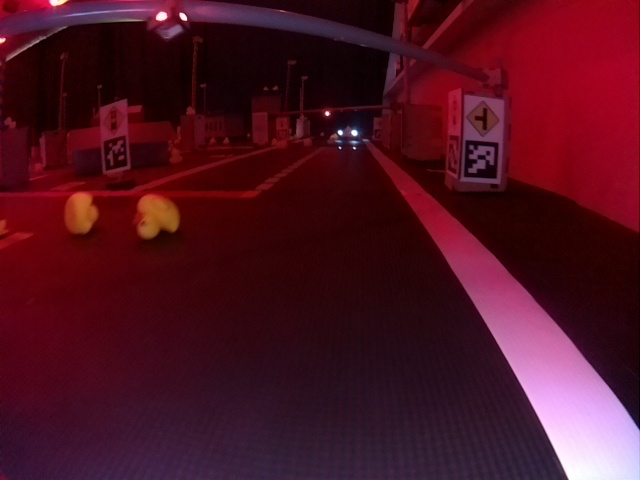Duckie: (133, 195, 180, 239), (64, 194, 95, 231)
Duckiebot: (335, 127, 362, 141)
Intersection sign: (467, 101, 499, 137)
QR code: (465, 140, 499, 181), (104, 136, 128, 168), (446, 134, 460, 175)
Signal sign: (102, 105, 126, 134)
Traffic light: (152, 5, 190, 41)
